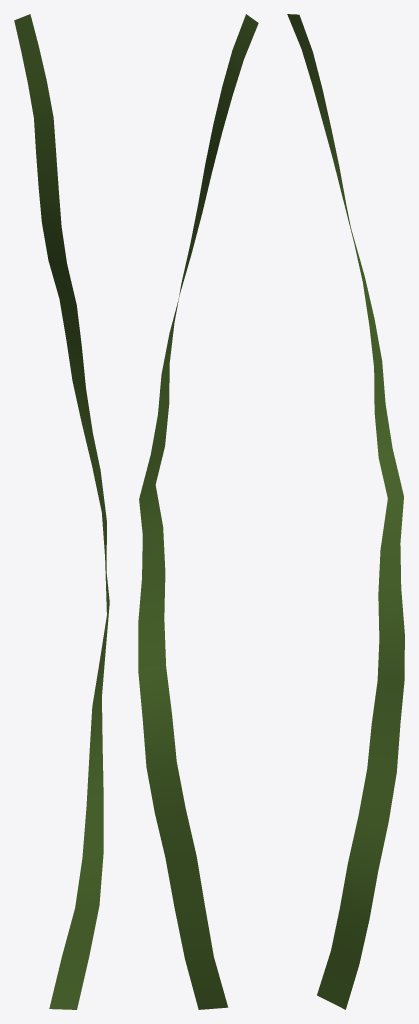
File: plant_swamp_kelp_long_solo_L.fbx
3 views of the same model, side by side, from view 1: azimuth 30°, elevation 25°; view 2: azimuth 150°, elevation 25°; view 3: azimuth 330°, elevation 25° (orthographic). The views are drawn at different scales.
Visible parts, largest first — view 1: plant_swamp_kelp_long_solo_L; view 2: plant_swamp_kelp_long_solo_L; view 3: plant_swamp_kelp_long_solo_L.
Part boxes in pixels (x1,y1,x2,y2): plant_swamp_kelp_long_solo_L: (14,14,109,1009); plant_swamp_kelp_long_solo_L: (138,14,258,1009); plant_swamp_kelp_long_solo_L: (287,14,404,1009).
Size of the model in its own units: 29.69 by 265 by 12.45.
